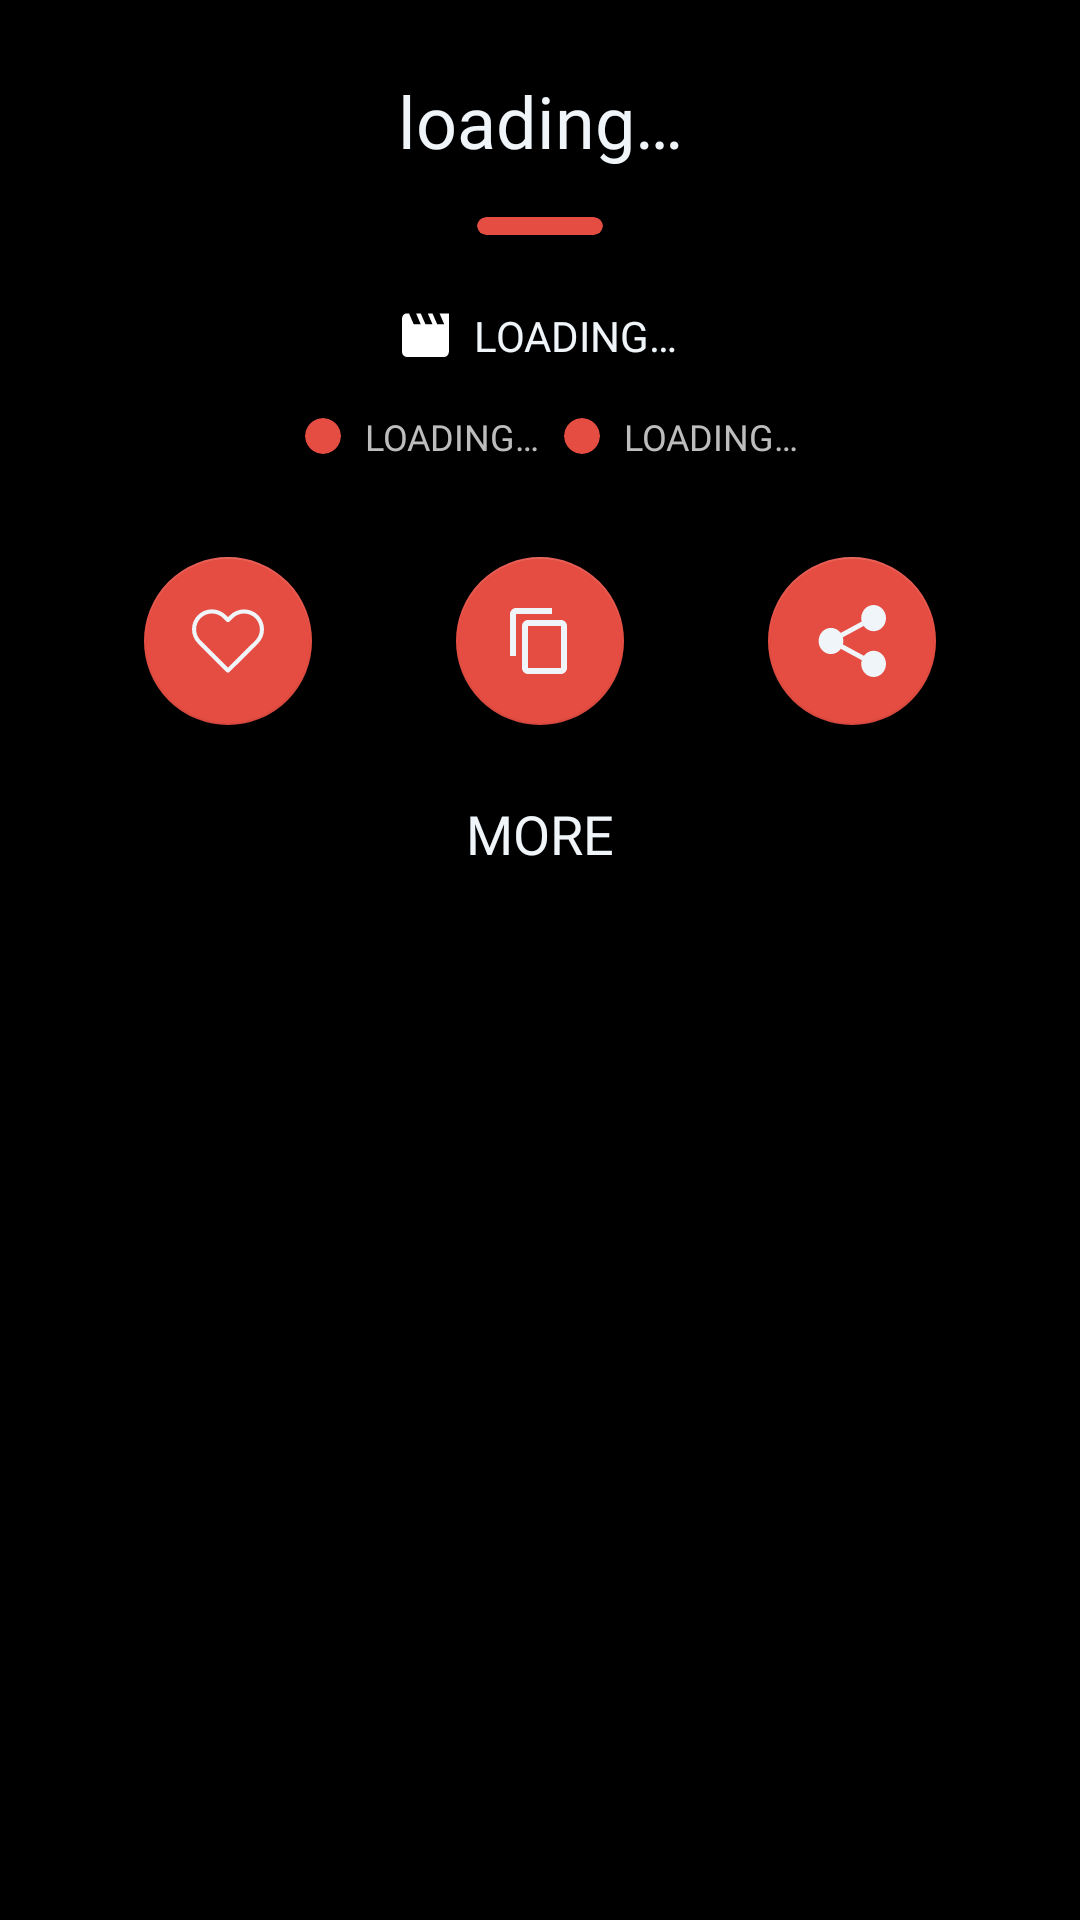

Screen size 1080x1920. Icon name, then its box in pixels as [x1, y1, x2, y2]:
fav: [144, 557, 312, 725]
movie: [402, 313, 449, 357]
share: [768, 557, 936, 725]
